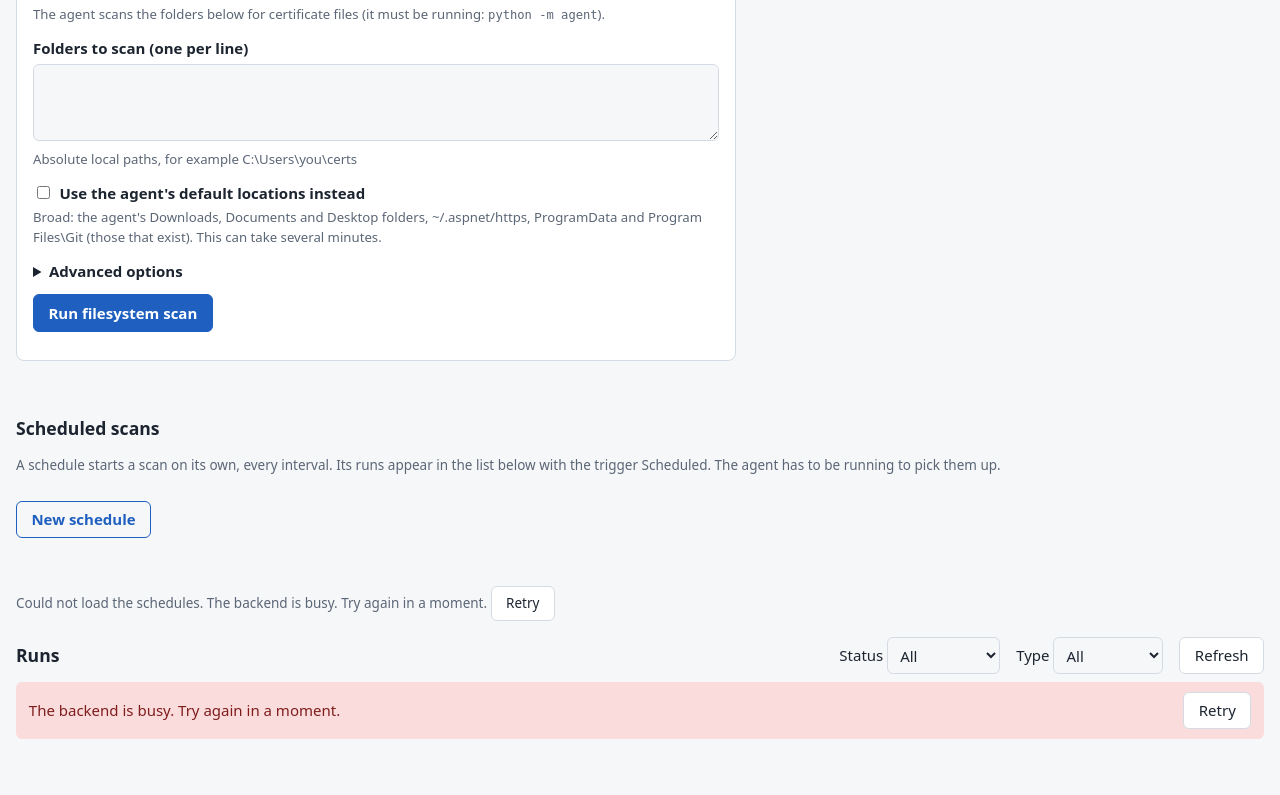
it: listing › shows an error with a working Retry when the first load fails
(page scrolled)
Expected: the message "The backend is busy. Try again in a moment. Retry" is shown, [16,682,1264,739]
Click the button "Retry" below "Type" at (1217, 711), box [1183,692,1251,729]
(page scrolled)
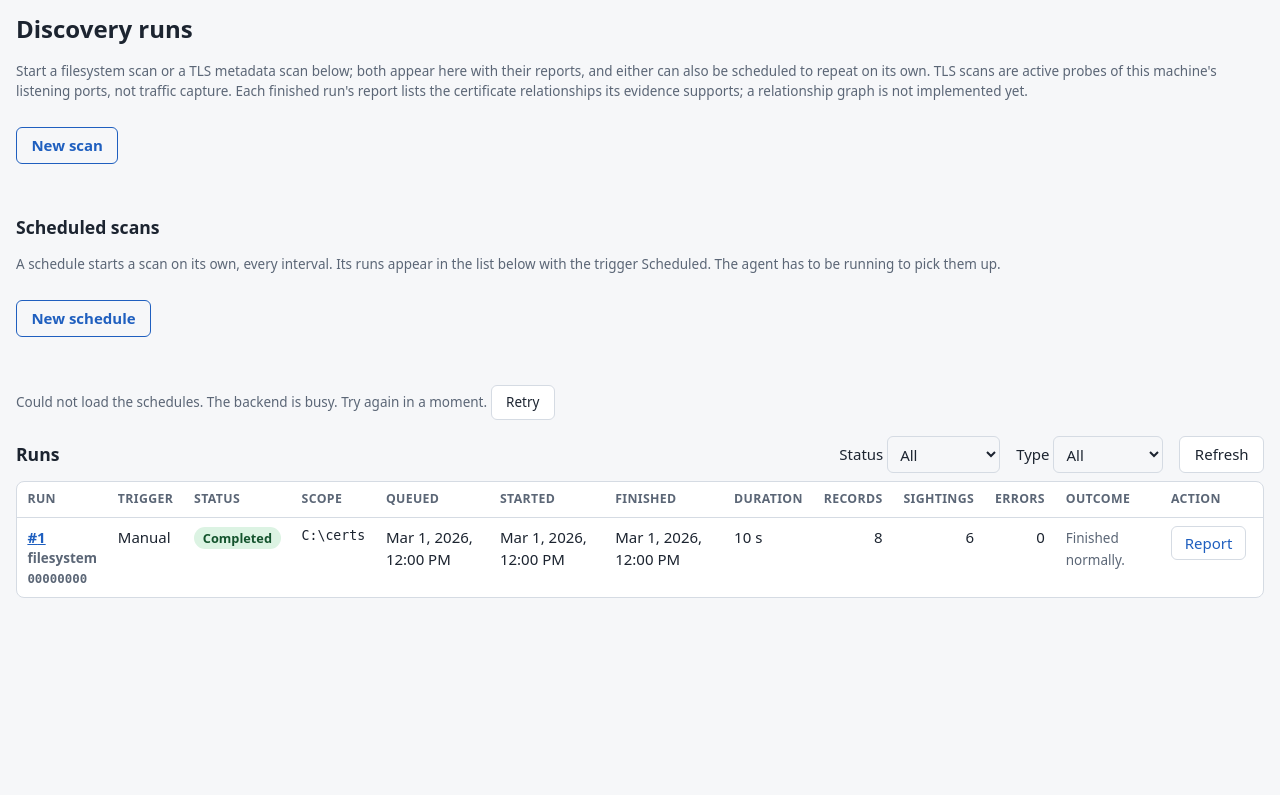
Result: the table is shown at [17,482,1263,597]
